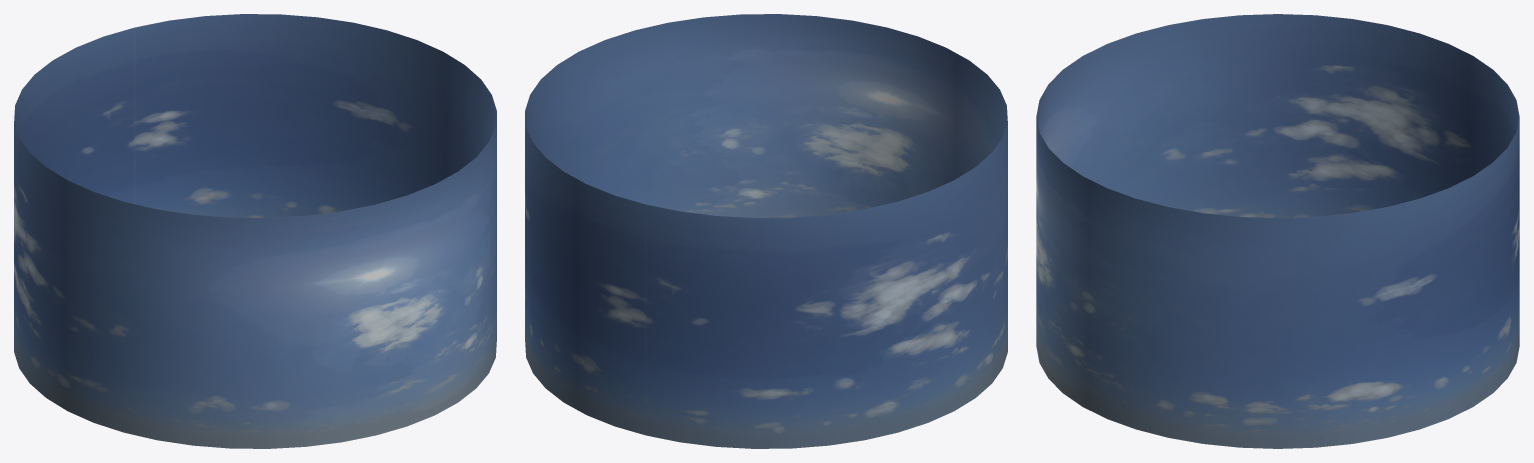
The model's file is Basic_Arena.FBX.
The picture shows the model from 3 angles, left to right: view 1: azimuth 30°, elevation 25°; view 2: azimuth 150°, elevation 25°; view 3: azimuth 270°, elevation 25°; orthographic projection.
Parts seen in each view (by area): view 1: Arena; view 2: Arena; view 3: Arena.
Part boxes in pixels (x1,y1,x2,y2): Arena: (14,14,496,448); Arena: (525,14,1007,448); Arena: (1036,14,1519,448).
Size of the model in its own units: 6444 by 3397 by 6444.
